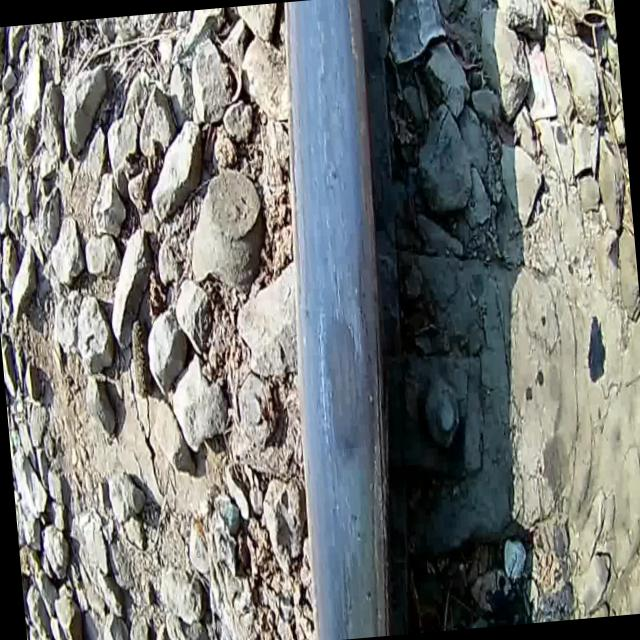Squats: (237, 0, 440, 640)
